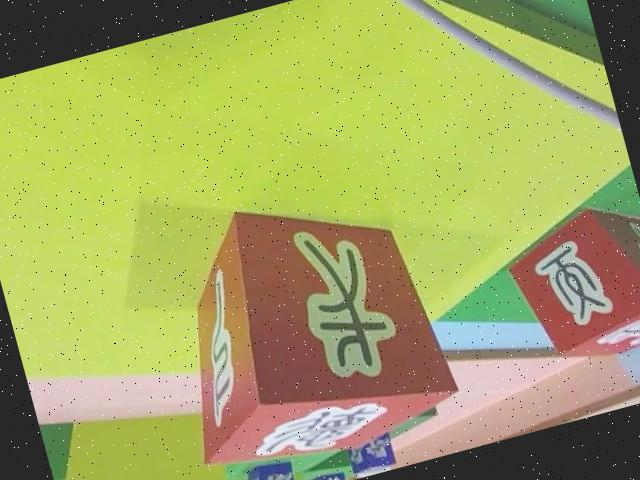R2 Fake: (141, 167, 466, 480), (497, 192, 640, 376)
